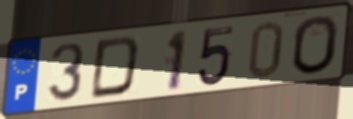0: (245, 19, 286, 82)
1: (165, 27, 189, 91)
3: (47, 41, 86, 104)
5: (195, 24, 237, 87)
D: (88, 34, 143, 102)
O: (291, 13, 341, 77)
